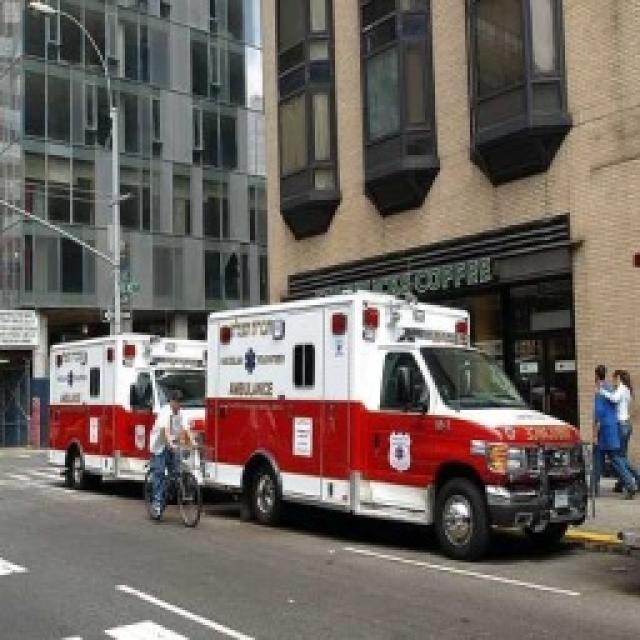emergency-vehicle: (207, 290, 593, 568), (52, 335, 213, 503)
